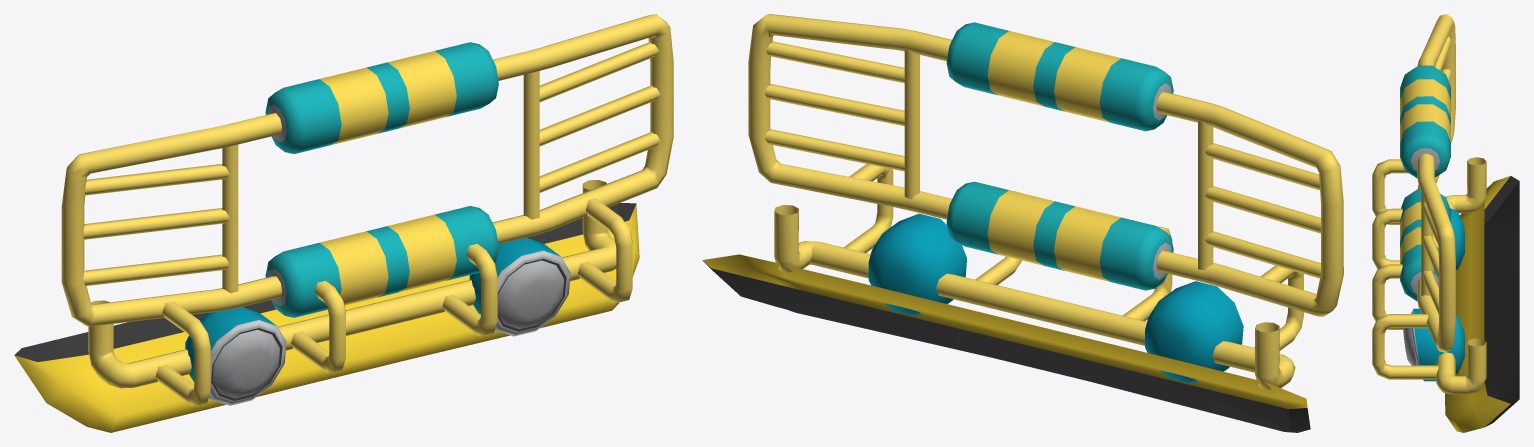
The model's file is Car_14_FrontBumper_Cool.fbx.
The picture shows the model from 3 angles, left to right: view 1: azimuth 30°, elevation 25°; view 2: azimuth 150°, elevation 25°; view 3: azimuth 270°, elevation 25°; orthographic projection. The views are drawn at different scales.
Visible parts, largest first — view 1: Car_14_FrontBumper_Cool; view 2: Car_14_FrontBumper_Cool; view 3: Car_14_FrontBumper_Cool.
Part boxes in pixels (bbox=[...]): Car_14_FrontBumper_Cool: bbox=[14, 14, 673, 432]; Car_14_FrontBumper_Cool: bbox=[702, 14, 1343, 432]; Car_14_FrontBumper_Cool: bbox=[1372, 14, 1519, 432].
Size of the model in its own units: 165 by 45.15 by 80.85.
